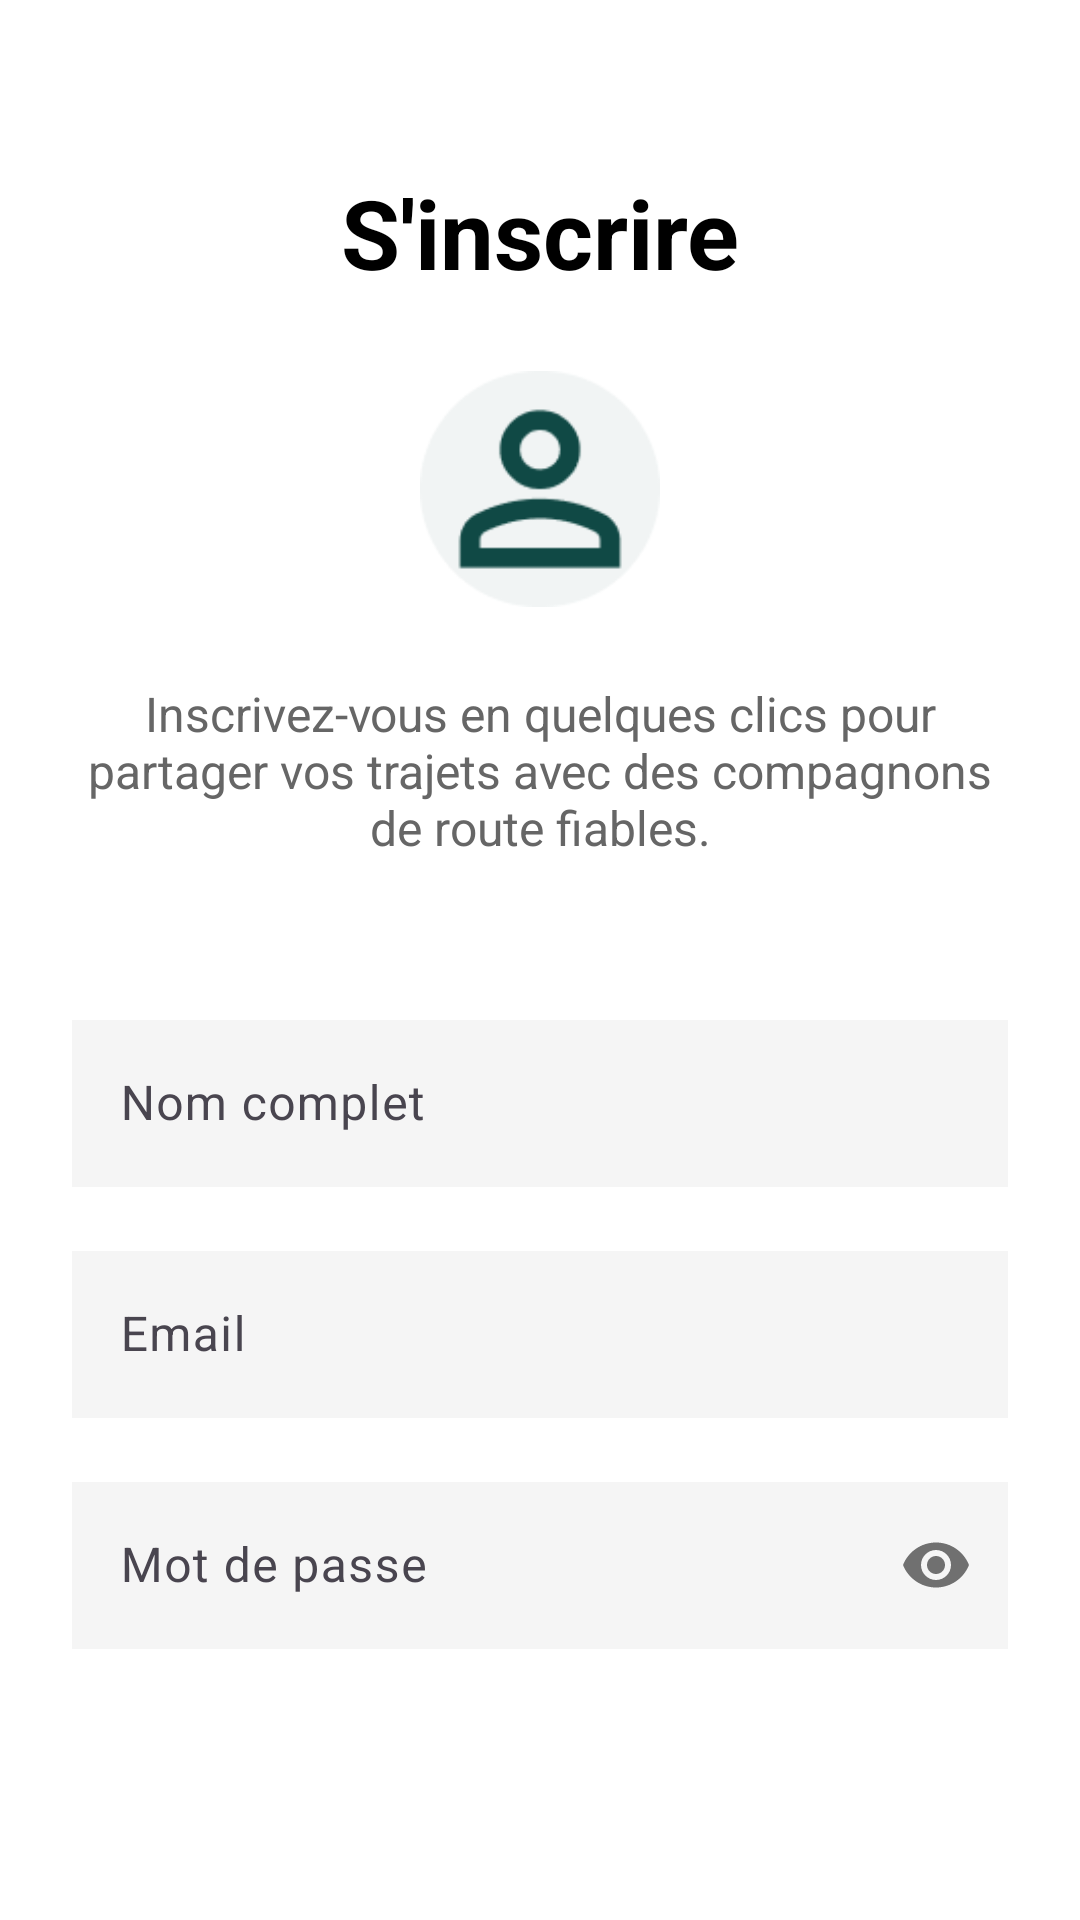

Icons on this 1080 × 1920 Android screen, each with its box as (x1=x1, y1=y1, x2=x2, y2=y2):
person: (x1=420, y1=371, x2=660, y2=607)
